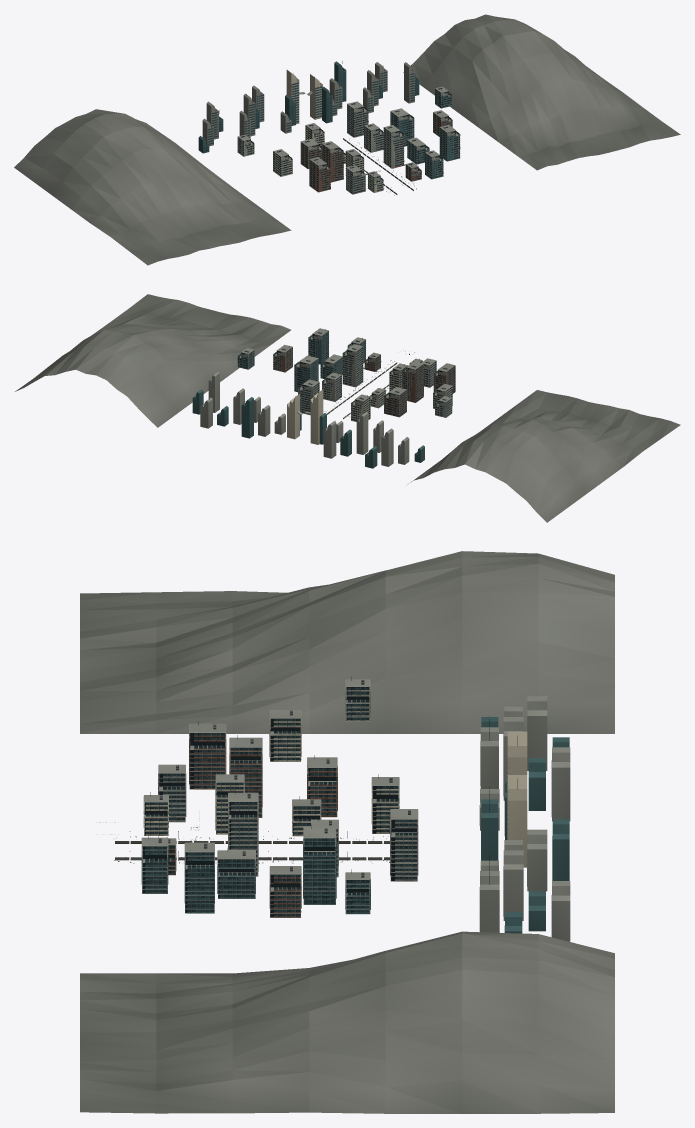
File: meridian-district.glb
3 renders of one model, top to bottom at view 1: azimuth 30°, elevation 25°; view 2: azimuth 150°, elevation 25°; view 3: azimuth 270°, elevation 25°, orthographic. The views are drawn at different scales.
Visible parts, largest first — view 1: horizon_concrete, horizon_glass, district_01_concrete, district_03_concrete, horizon_ceramic, district_02_concrete, district_00_concrete, district_03_glass, district_04_concrete, district_01_glass, horizon_chalk, district_02_glass (+7 smaller); view 2: horizon_concrete, horizon_ceramic, district_01_concrete, district_02_concrete, district_03_concrete, horizon_chalk, district_04_concrete, district_01_glass, district_02_glass, district_03_glass, district_00_concrete, district_04_glass (+4 smaller); view 3: horizon_concrete, horizon_ceramic, district_03_concrete, district_03_glass, district_01_concrete, district_01_glass, district_04_concrete, district_03_void, district_04_glass, district_02_glass, district_02_concrete, horizon_chalk (+9 smaller).
Boxes of the visible parts, left/top/right/bottom form: horizon_concrete: left=14, top=14, right=680, bottom=265; horizon_glass: left=203, top=72, right=418, bottom=151; district_01_concrete: left=322, top=125, right=429, bottom=182; district_03_concrete: left=305, top=101, right=459, bottom=192; horizon_ceramic: left=198, top=61, right=419, bottom=153; district_02_concrete: left=300, top=108, right=413, bottom=168; district_00_concrete: left=346, top=150, right=443, bottom=194; district_03_glass: left=305, top=104, right=459, bottom=190; district_04_concrete: left=237, top=86, right=452, bottom=176; district_01_glass: left=322, top=128, right=429, bottom=180; horizon_chalk: left=286, top=70, right=322, bottom=124; district_02_glass: left=301, top=112, right=414, bottom=167; horizon_concrete: left=15, top=294, right=680, bottom=522; horizon_ceramic: left=192, top=389, right=424, bottom=468; district_01_concrete: left=320, top=344, right=423, bottom=402; district_02_concrete: left=294, top=355, right=406, bottom=417; district_03_concrete: left=298, top=328, right=455, bottom=421; horizon_chalk: left=287, top=389, right=323, bottom=444; district_04_concrete: left=237, top=344, right=452, bottom=417; district_01_glass: left=320, top=347, right=423, bottom=401; district_02_glass: left=294, top=359, right=406, bottom=415; district_03_glass: left=298, top=332, right=455, bottom=420; district_00_concrete: left=347, top=337, right=436, bottom=387; district_04_glass: left=238, top=348, right=452, bottom=416; horizon_concrete: left=80, top=551, right=614, bottom=1113; horizon_ceramic: left=481, top=717, right=569, bottom=933; district_03_concrete: left=184, top=723, right=418, bottom=913; district_03_glass: left=185, top=733, right=417, bottom=911; district_01_concrete: left=215, top=737, right=262, bottom=898; district_01_glass: left=216, top=747, right=261, bottom=897; district_04_concrete: left=269, top=679, right=370, bottom=917; district_03_void: left=185, top=733, right=417, bottom=912; district_04_glass: left=270, top=687, right=369, bottom=916; district_02_glass: left=293, top=768, right=338, bottom=903; district_02_concrete: left=292, top=757, right=338, bottom=904; horizon_chalk: left=507, top=731, right=527, bottom=867.
Size of the model in its own units: 934 by 88.97 by 406.
